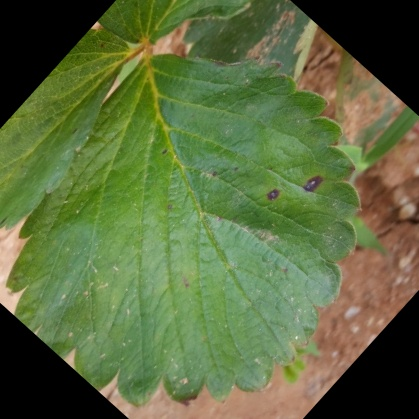Leaf_Spot: (58, 49, 374, 418), (0, 49, 133, 418), (0, 0, 155, 146)
